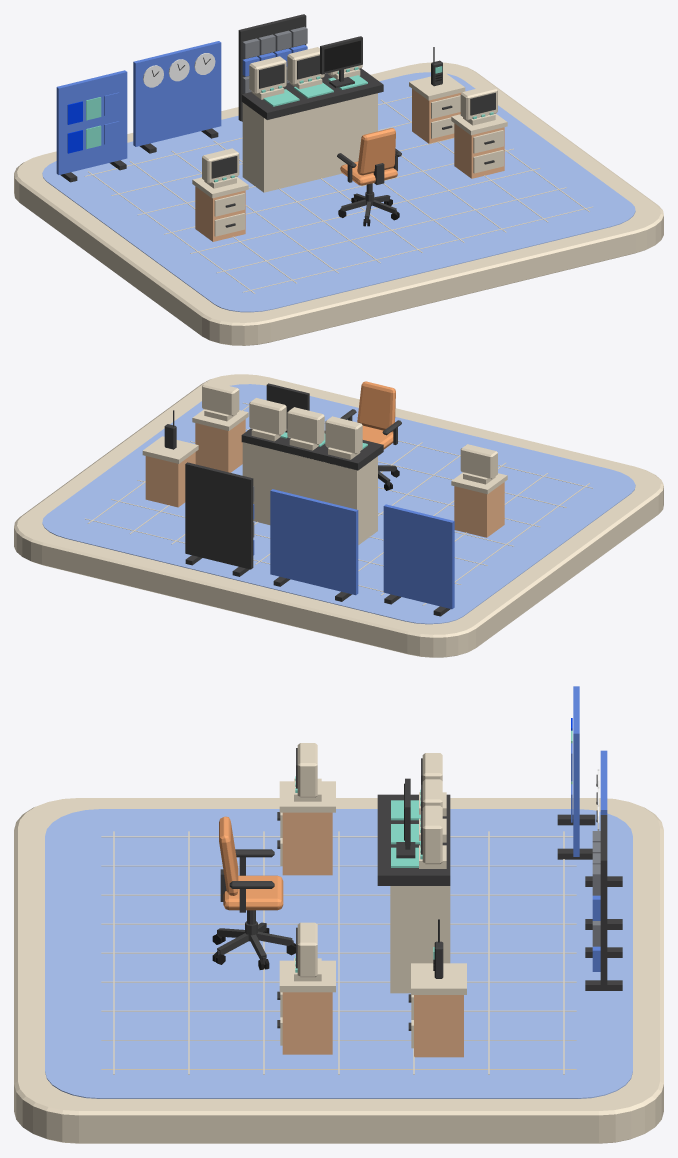
File: room.fbx
3 views of the same model, one above another, from view 1: azimuth 30°, elevation 25°; view 2: azimuth 150°, elevation 25°; view 3: azimuth 270°, elevation 25° (orthographic). The views are drawn at different scales.
Parts seen in each view (by area): view 1: COM-02 Floor Surface, COM-01 Rounded Base Direct, Console, Panel.002, Panel.001, COM-04_Chair_blender_direct, Panel, Frame, Panel.003, Body, Body.001, Body.002 (+15 smaller); view 2: COM-02 Floor Surface, COM-01 Rounded Base Direct, Panel.002, Console, Panel.001, Panel.003, COM-04_Chair_blender_direct, Body, Body.001, Body.002, Panel, Housing (+8 smaller); view 3: COM-02 Floor Surface, COM-01 Rounded Base Direct, COM-04_Chair_blender_direct, Console, Body, Body.001, Body.002, Panel, Top.002, Panel.003, Top.001, Top (+10 smaller).
Part boxes in pixels (<box>): COM-02 Floor Surface: <box>42,72,635,312</box>; COM-01 Rounded Base Direct: <box>14,62,663,345</box>; Console: <box>242,93,377,192</box>; Panel.002: <box>133,41,221,146</box>; Panel.001: <box>56,70,127,174</box>; COM-04_Chair_blender_direct: <box>337,128,401,226</box>; Panel: <box>241,68,383,119</box>; Frame: <box>320,36,362,87</box>; Panel.003: <box>238,14,306,121</box>; Body: <box>195,186,245,241</box>; Body.001: <box>454,123,504,178</box>; Body.002: <box>412,89,461,143</box>; COM-02 Floor Surface: <box>42,384,635,624</box>; COM-01 Rounded Base Direct: <box>14,374,663,657</box>; Panel.002: <box>270,489,358,595</box>; Console: <box>242,442,377,544</box>; Panel.001: <box>383,504,454,609</box>; Panel.003: <box>185,462,253,569</box>; COM-04_Chair_blender_direct: <box>340,381,401,490</box>; Body: <box>454,482,504,537</box>; Body.001: <box>195,419,245,472</box>; Body.002: <box>145,452,195,507</box>; Panel: <box>241,428,383,470</box>; Housing: <box>325,416,362,454</box>; COM-02 Floor Surface: <box>45,809,632,1098</box>; COM-01 Rounded Base Direct: <box>14,798,663,1143</box>; COM-04_Chair_blender_direct: <box>212,816,295,969</box>; Console: <box>390,886,450,993</box>; Body: <box>282,812,332,875</box>; Body.001: <box>282,992,332,1054</box>; Body.002: <box>414,995,463,1057</box>; Panel: <box>377,794,450,885</box>; Top.002: <box>411,963,466,994</box>; Panel.003: <box>600,815,607,987</box>; Top.001: <box>279,960,335,992</box>; Top: <box>279,781,335,812</box>.
Bounding box in the file's own units: 600 × 188 × 520.
